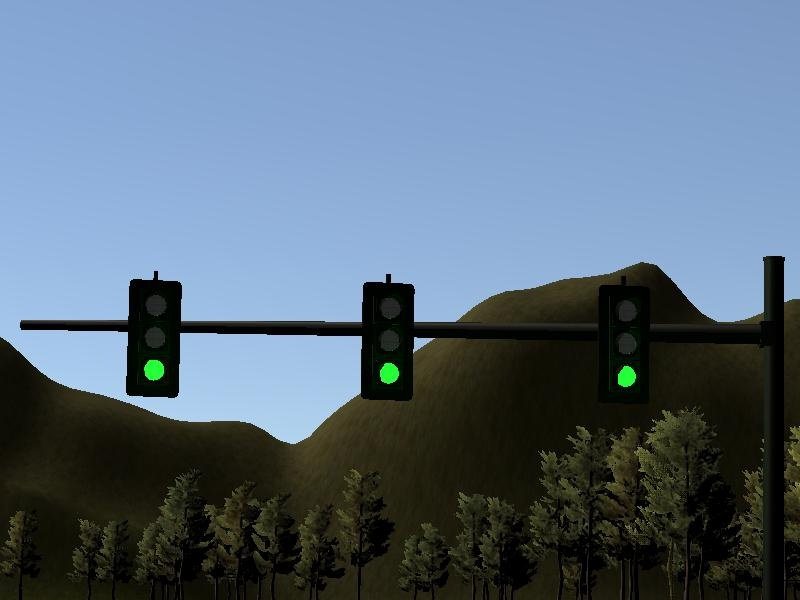green: (582, 274, 659, 407), (117, 272, 186, 402), (358, 267, 420, 407)
